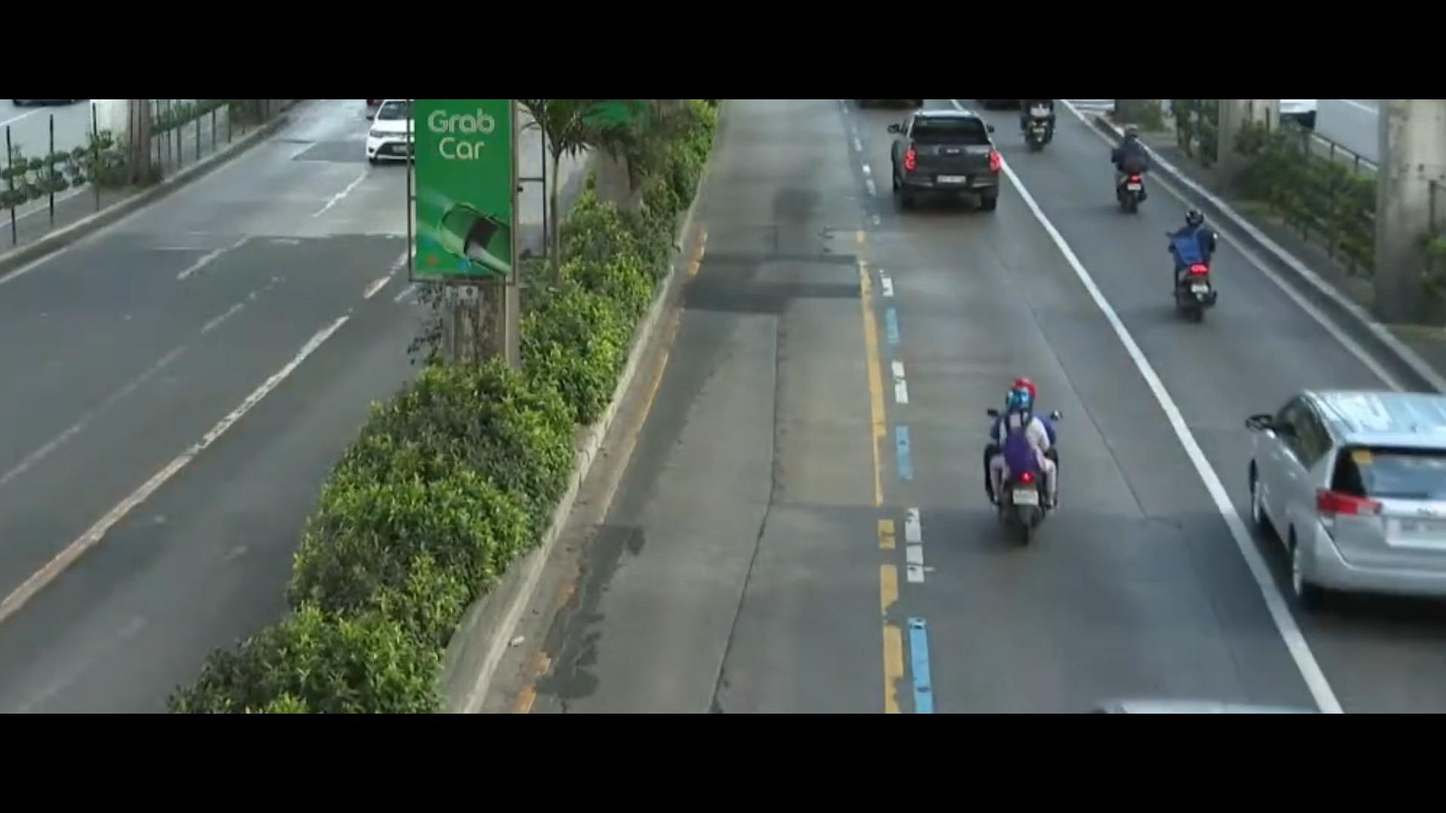Motorcycle: (935, 367, 1092, 575), (1152, 196, 1260, 332), (1110, 111, 1166, 209), (1019, 105, 1071, 168)
Pickup: (861, 105, 1010, 243)
SUV: (1226, 349, 1446, 612)
